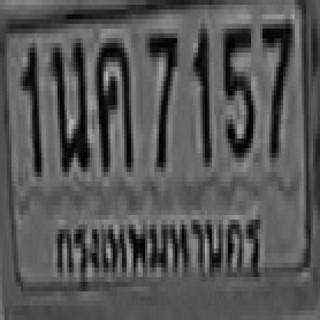A04: (94, 36, 131, 165)
A25: (49, 36, 89, 170)
N01: (18, 43, 39, 172), (191, 24, 210, 162)
N05: (221, 21, 253, 155)
N07: (260, 17, 290, 155), (146, 31, 176, 165)
P04: (48, 202, 267, 294)
